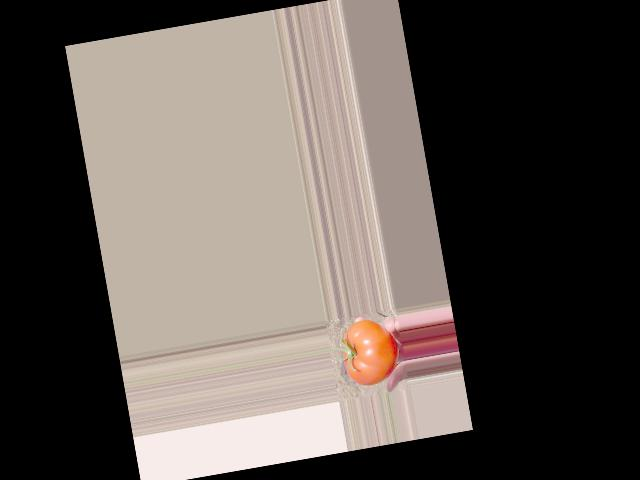tomato: (337, 314, 403, 388)
